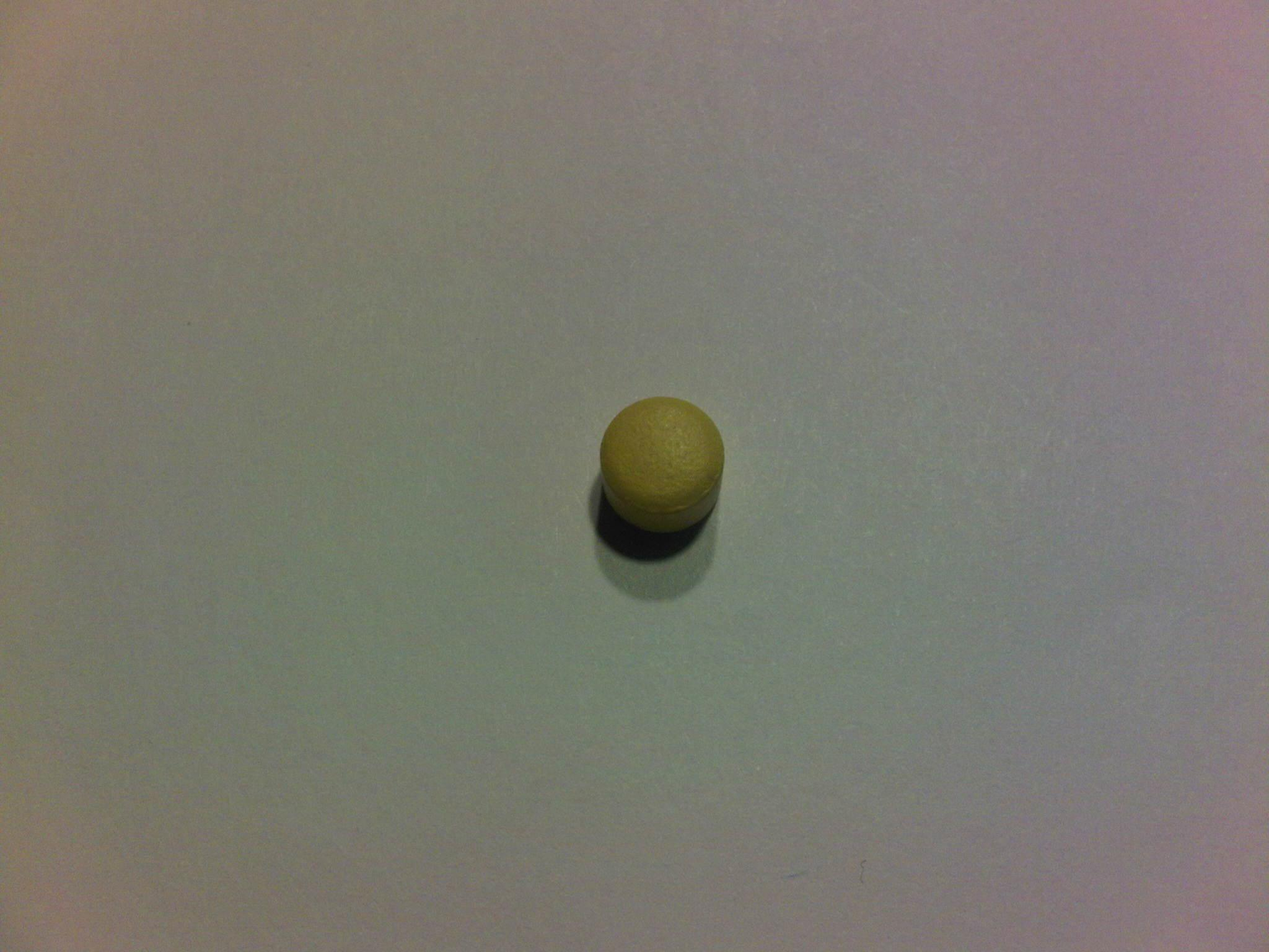Pill: (593, 389, 731, 541)
